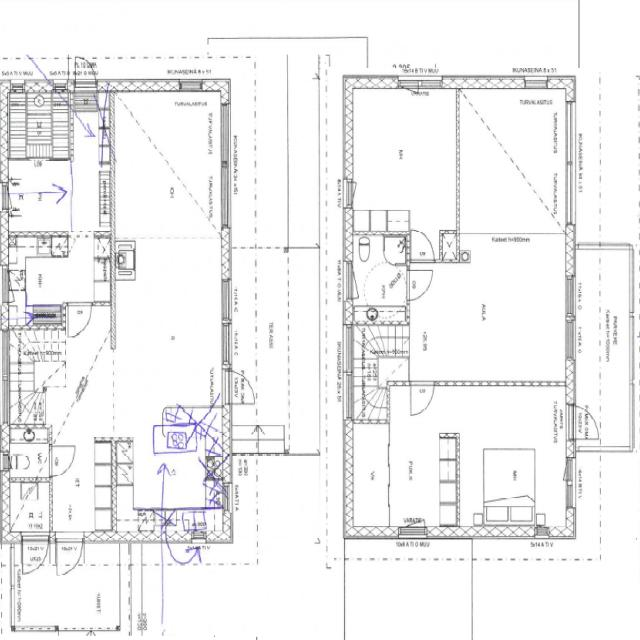door: (55, 529, 84, 584), (21, 529, 48, 582), (566, 404, 600, 441), (221, 368, 255, 404), (75, 47, 97, 92), (411, 380, 434, 419), (68, 302, 92, 339), (412, 225, 434, 263), (50, 446, 74, 477), (408, 270, 432, 301)
